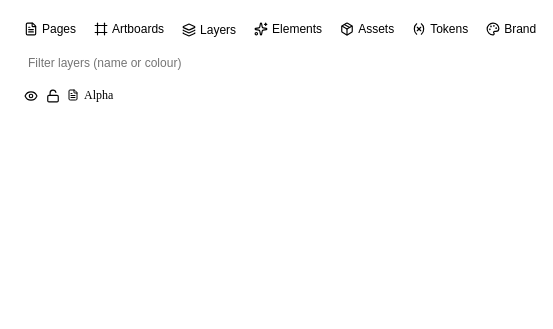
LeftPanel › right-click context menu (Phase D) › Rename item opens the rename input pre-filled with the layer name
Right-click the text "Alpha" at [73, 95], box [16, 82, 260, 108]
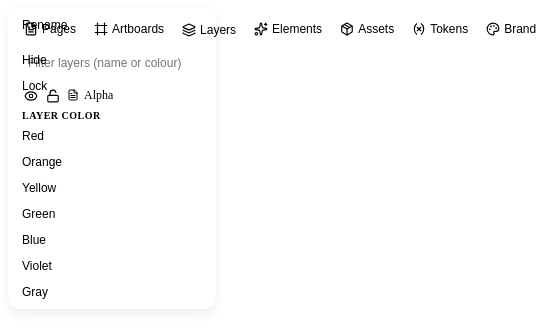
Click the menu item with test id "ctx-rename" at [112, 25], box [12, 12, 212, 38]
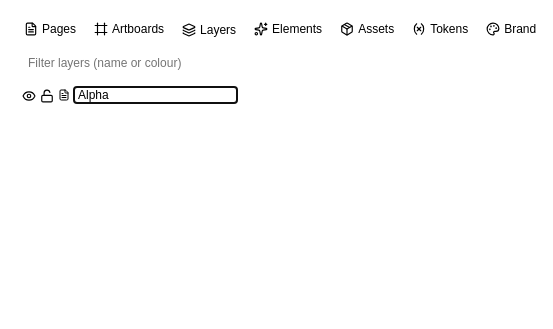
Expected: the field showing "Alpha" is shown, [74, 87, 237, 103]
